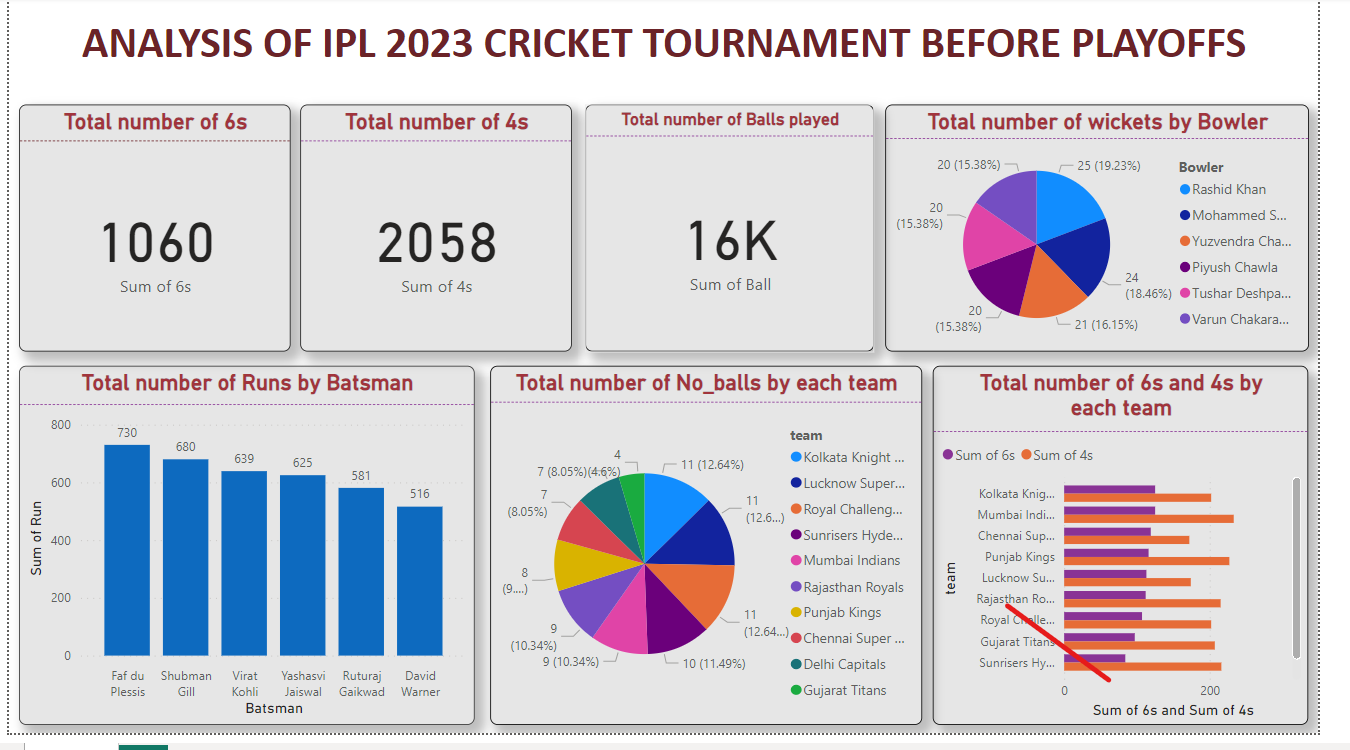

This screenshot's page, from the dashboard's own definition file:
{"tool":"powerbi","page":{"name":"Page 1","canvas":[1280,720],"ordinal":0},"visuals":[{"type":"clusteredColumnChart","title":"Total number of Runs by Batsman","fields":{"Category":["IPL2023_Batsman.Batsman"],"Y":["IPL2023_Batsman.Run"]},"box":[9.6,360.6,445.6,351],"z":0},{"type":"clusteredBarChart","title":"Total number of 6s and 4s by each team","fields":{"Category":["IPL2023_Batsman.team"],"Y":["IPL2023_Batsman.6s","IPL2023_Batsman.4s"]},"box":[903.5,360.6,367.4,351],"z":1000},{"type":"pieChart","title":"Total number of wickets by Bowler","fields":{"Y":["IPL2023_Bowler.wicket"],"Category":["IPL2023_Bowler.Bowler"]},"box":[856.9,105.6,414.1,241.3],"z":2000},{"type":"card","title":"Total number of 6s","fields":{"Values":["IPL2023_Batsman.6s"]},"box":[9.6,105.6,266,241.3],"z":3000},{"type":"card","title":"Total number of 4s","fields":{"Values":["IPL2023_Batsman.4s"]},"box":[285.2,105.6,266,241.3],"z":4000},{"type":"pieChart","title":"Total number of No_balls by each  team","fields":{"Category":["IPL2023_Bowler.team"],"Y":["IPL2023_Bowler.No_ball"]},"box":[470.3,360.6,422.3,351],"z":5000},{"type":"card","title":"Total number of Balls played","fields":{"Values":["IPL2023_Batsman.Ball"]},"box":[563.5,105.6,282.4,241.3],"z":6000},{"type":"textbox","box":[9.6,13.7,1261.4,75.4],"z":7000}]}

Visuals, with their boxes in screenshot pixels (x1, y1, x2, y2), scaled from the page's 1280x720 canvas onto the 1350x750 screenshot:
"Total number of Runs by Batsman" clusteredColumnChart: locate(10, 376, 480, 741)
"Total number of 6s and 4s by each team" clusteredBarChart: locate(953, 376, 1340, 741)
"Total number of wickets by Bowler" pieChart: locate(904, 110, 1341, 361)
"Total number of 6s" card: locate(10, 110, 291, 361)
"Total number of 4s" card: locate(301, 110, 581, 361)
"Total number of No_balls by each  team" pieChart: locate(496, 376, 941, 741)
"Total number of Balls played" card: locate(594, 110, 892, 361)
textbox: locate(10, 14, 1341, 93)
